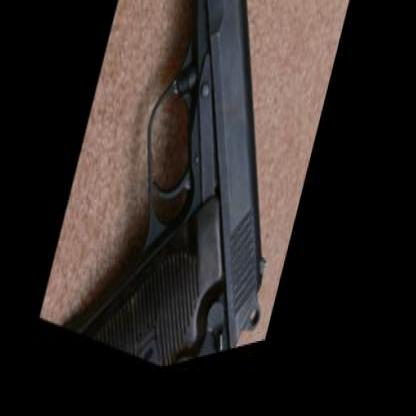pistol: (68, 0, 347, 395)
